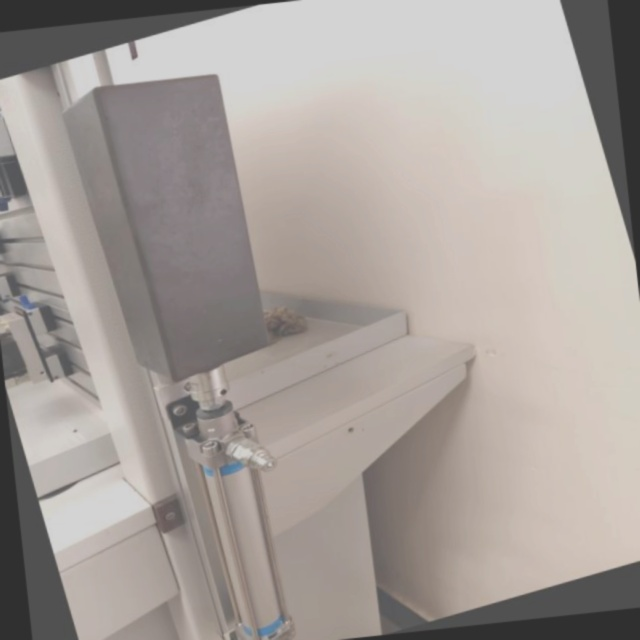load: (25, 19, 389, 640)
